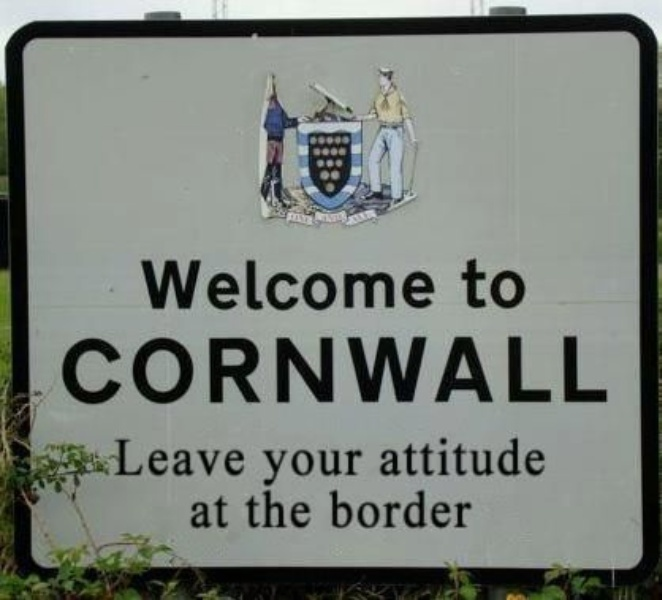text: (65, 330, 80, 409), (81, 330, 96, 409), (97, 330, 112, 409), (113, 330, 128, 409), (129, 330, 144, 409), (145, 330, 160, 409), (161, 330, 176, 409), (177, 330, 192, 409), (193, 330, 208, 409), (209, 330, 224, 409), (225, 330, 240, 409), (241, 330, 256, 409), (257, 330, 272, 409), (273, 330, 288, 409), (289, 330, 304, 409), (305, 330, 320, 409), (321, 330, 336, 409), (337, 330, 352, 409), (353, 330, 368, 409), (369, 330, 384, 409), (385, 330, 400, 409), (401, 330, 416, 409), (417, 330, 432, 409), (433, 330, 448, 409), (449, 330, 464, 409), (465, 330, 480, 409), (481, 330, 496, 409), (497, 330, 512, 409), (513, 330, 528, 409), (529, 330, 544, 409), (545, 330, 560, 409), (561, 330, 576, 409), (577, 330, 592, 409), (593, 330, 608, 409), (145, 259, 160, 311), (161, 259, 176, 311), (177, 259, 192, 311), (193, 259, 208, 311), (209, 259, 224, 311), (225, 259, 240, 311), (241, 259, 256, 311), (257, 259, 272, 311), (273, 259, 288, 311), (289, 259, 304, 311), (305, 259, 320, 311), (321, 259, 336, 311), (337, 259, 352, 311), (353, 259, 368, 311), (369, 259, 384, 311), (385, 259, 400, 311), (401, 259, 416, 311), (417, 259, 432, 311), (465, 259, 480, 309), (481, 259, 496, 309), (497, 259, 512, 309), (513, 259, 528, 309), (56, 330, 64, 409), (337, 487, 352, 529), (353, 487, 368, 529), (369, 487, 384, 529), (385, 487, 400, 529), (401, 487, 416, 529), (417, 487, 432, 529), (433, 487, 448, 529), (449, 487, 464, 529), (385, 436, 400, 477), (401, 436, 416, 477), (417, 436, 432, 477), (433, 436, 448, 477), (449, 436, 464, 477), (465, 436, 480, 477), (481, 436, 496, 477), (497, 436, 512, 477), (513, 436, 528, 477), (529, 436, 544, 477), (257, 488, 272, 529), (273, 488, 288, 529), (289, 488, 304, 529), (113, 437, 128, 477), (129, 437, 144, 477), (145, 437, 160, 477), (161, 437, 176, 477), (177, 437, 192, 477), (193, 437, 208, 477), (209, 437, 224, 477), (225, 437, 240, 477), (273, 449, 288, 488), (289, 449, 304, 488), (305, 449, 320, 488), (321, 449, 336, 488), (337, 449, 352, 488), (193, 493, 208, 531), (209, 493, 224, 531), (244, 488, 256, 529), (465, 487, 476, 529), (262, 449, 272, 488), (353, 449, 363, 488), (328, 487, 336, 529), (138, 259, 144, 311), (305, 488, 312, 529), (241, 437, 248, 477), (225, 493, 232, 531), (609, 330, 612, 409), (460, 259, 464, 309), (433, 259, 436, 311), (381, 436, 384, 477), (545, 436, 547, 477)
